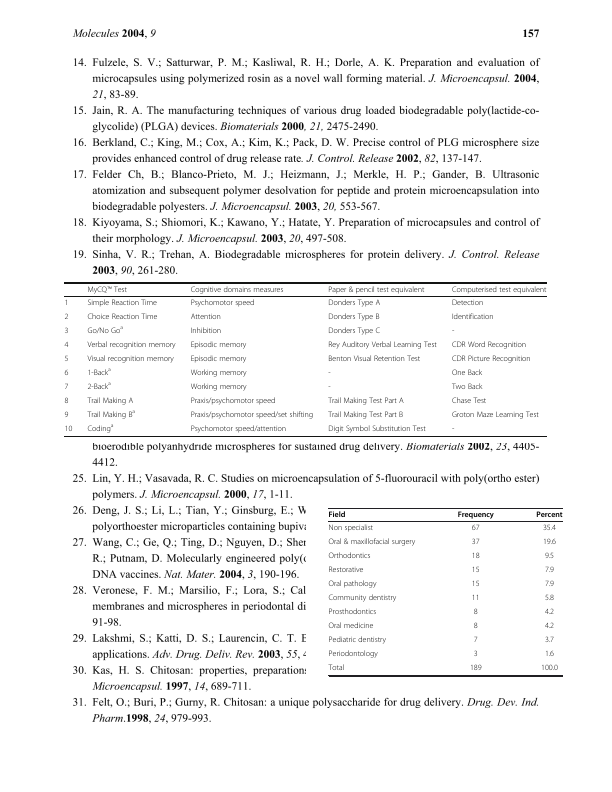borderless: (64, 281, 547, 436), (327, 507, 562, 675)
cell: (190, 410, 314, 420), (327, 340, 438, 350), (327, 424, 427, 434), (190, 424, 287, 434), (327, 354, 421, 364), (86, 340, 176, 350), (86, 354, 175, 364), (451, 410, 540, 420), (327, 285, 425, 294), (328, 538, 416, 548), (451, 285, 547, 294), (190, 396, 276, 406), (190, 285, 284, 294), (451, 354, 532, 364), (327, 396, 405, 406), (327, 410, 404, 420), (451, 340, 527, 350), (86, 298, 158, 308), (86, 312, 158, 322), (328, 594, 397, 604), (190, 298, 255, 308), (86, 408, 136, 420), (328, 636, 387, 646), (190, 368, 248, 378), (190, 382, 248, 392), (190, 340, 247, 350), (190, 354, 247, 364), (327, 298, 381, 308), (327, 326, 381, 336), (327, 312, 380, 322), (328, 650, 379, 660), (328, 580, 377, 590), (328, 608, 377, 618), (86, 396, 134, 406), (328, 524, 374, 534), (328, 622, 374, 632), (86, 324, 124, 336), (328, 552, 371, 562), (451, 312, 494, 322), (86, 285, 128, 294), (328, 566, 364, 576), (451, 396, 487, 406), (457, 511, 495, 520), (86, 422, 114, 434), (451, 298, 484, 308), (190, 312, 222, 322), (190, 326, 222, 336), (451, 368, 483, 378), (451, 382, 483, 392), (86, 366, 112, 378), (86, 380, 112, 392), (535, 511, 563, 520), (540, 664, 559, 674), (328, 664, 345, 674), (328, 511, 346, 520), (542, 524, 557, 534), (542, 538, 557, 548), (469, 664, 482, 674), (544, 552, 555, 562), (544, 566, 555, 576), (544, 580, 555, 590), (544, 594, 555, 604), (544, 608, 555, 618), (544, 622, 555, 632), (544, 636, 555, 646), (544, 650, 555, 660), (471, 524, 480, 534), (471, 538, 480, 548), (471, 552, 480, 562), (471, 566, 480, 576), (471, 580, 480, 590), (471, 594, 480, 604), (64, 424, 73, 434), (473, 608, 479, 618), (473, 622, 479, 632), (473, 636, 479, 646), (473, 650, 479, 660), (63, 298, 69, 308), (63, 312, 69, 322), (63, 326, 69, 336), (64, 340, 69, 350), (64, 354, 69, 364), (64, 368, 69, 378), (327, 368, 332, 378), (64, 382, 69, 392), (327, 382, 332, 392), (64, 396, 69, 406), (64, 410, 69, 420), (451, 326, 455, 336), (451, 424, 455, 434)
